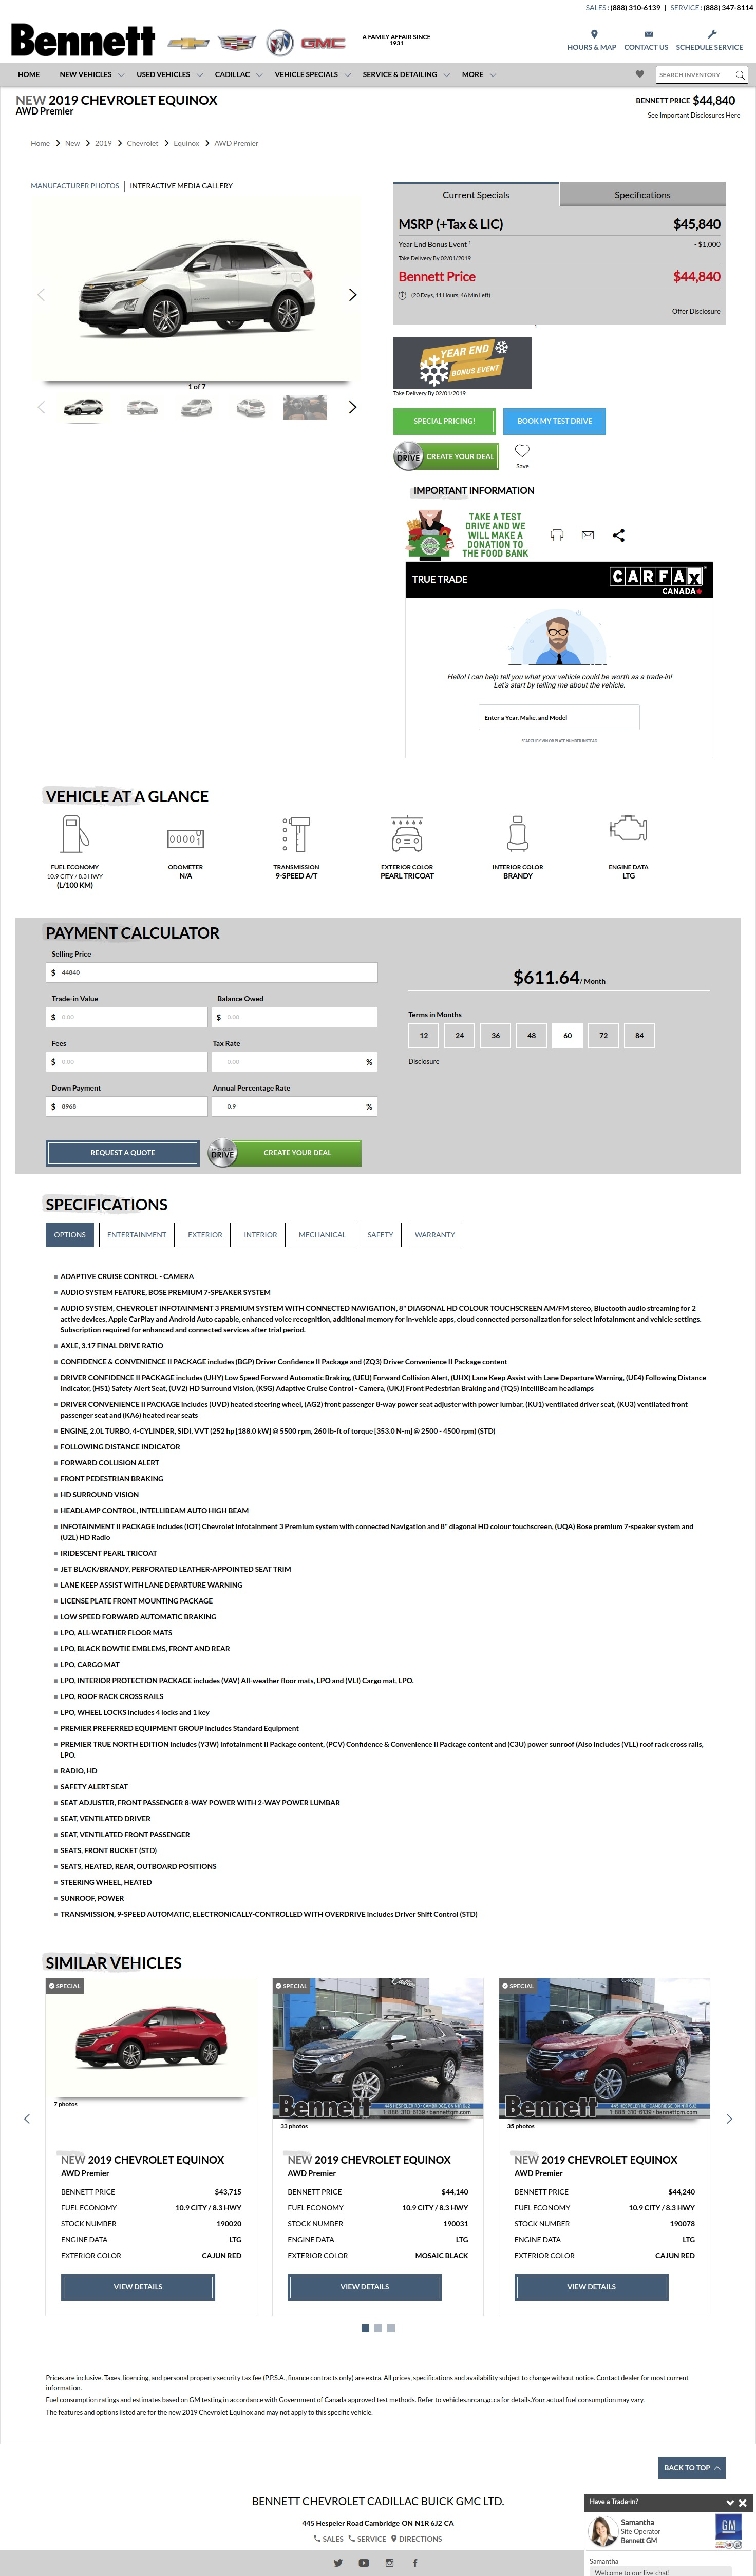car: (348, 401, 358, 416)
